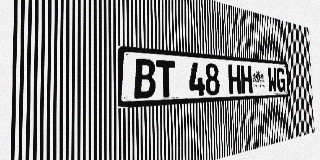4: (189, 62, 205, 96)
8: (205, 63, 220, 95)
B: (134, 58, 156, 99)
G: (276, 68, 286, 92)
H: (228, 64, 241, 94), (240, 65, 252, 94)
T: (156, 60, 176, 98)
W: (267, 67, 277, 92)
